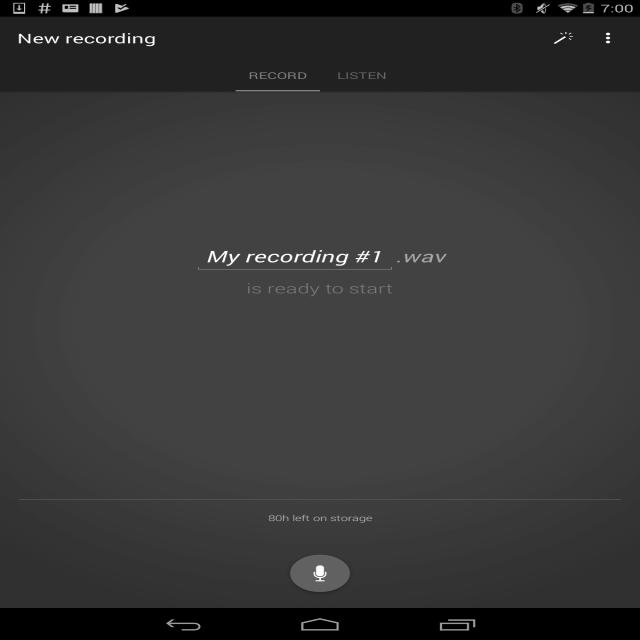EditText: (194, 241, 396, 272)
ImageButton: (277, 543, 363, 604)
ImageView: (589, 22, 631, 54)
TextView: (0, 512, 640, 544), (246, 279, 393, 297), (17, 29, 157, 47), (538, 22, 588, 54), (396, 245, 446, 267), (249, 69, 307, 82), (337, 69, 387, 82)
